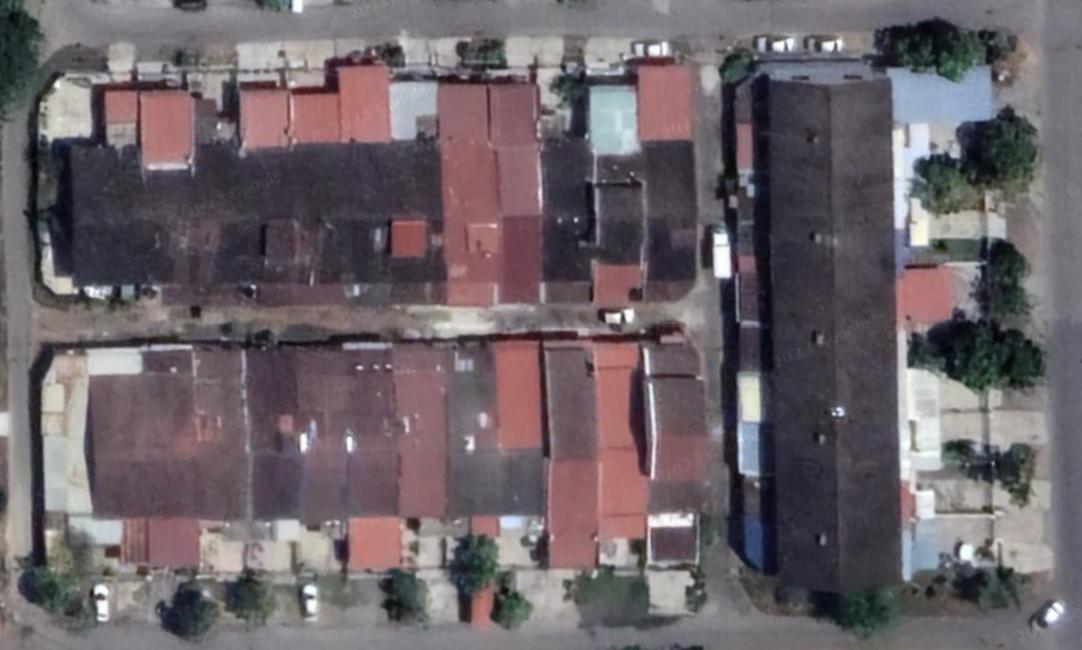building: (47, 135, 166, 292), (642, 327, 716, 575), (542, 325, 610, 575), (599, 328, 664, 547), (736, 526, 914, 605), (341, 328, 410, 525), (725, 68, 901, 137), (299, 333, 360, 532), (140, 341, 204, 529), (197, 337, 258, 530), (397, 330, 456, 527), (77, 367, 150, 525), (188, 137, 262, 292), (253, 333, 310, 532), (504, 324, 561, 523), (723, 125, 902, 188), (734, 429, 911, 491), (731, 376, 909, 435), (730, 222, 907, 281), (456, 328, 509, 524), (730, 172, 907, 230), (637, 134, 703, 289), (244, 136, 305, 296), (533, 132, 593, 289), (729, 281, 909, 331), (730, 332, 906, 383), (433, 135, 488, 293), (731, 483, 911, 530), (151, 155, 211, 294), (383, 134, 435, 292), (297, 137, 345, 295), (488, 139, 535, 295), (341, 134, 384, 296), (589, 146, 639, 272)
